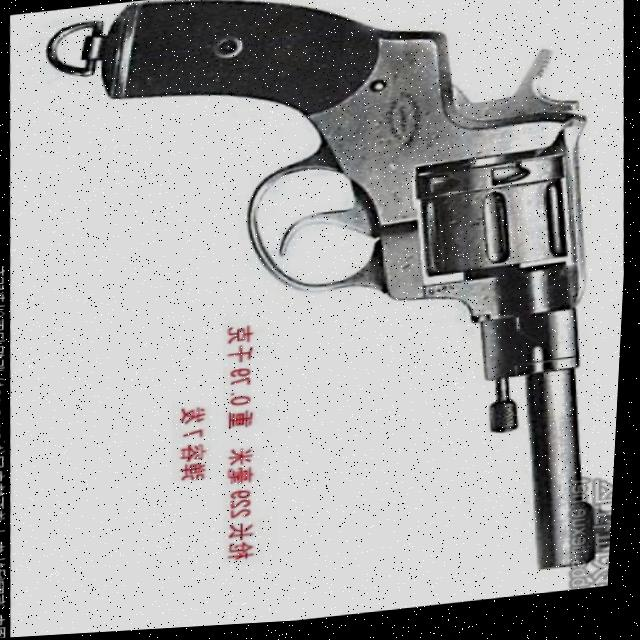pistol: (80, 0, 640, 620)
